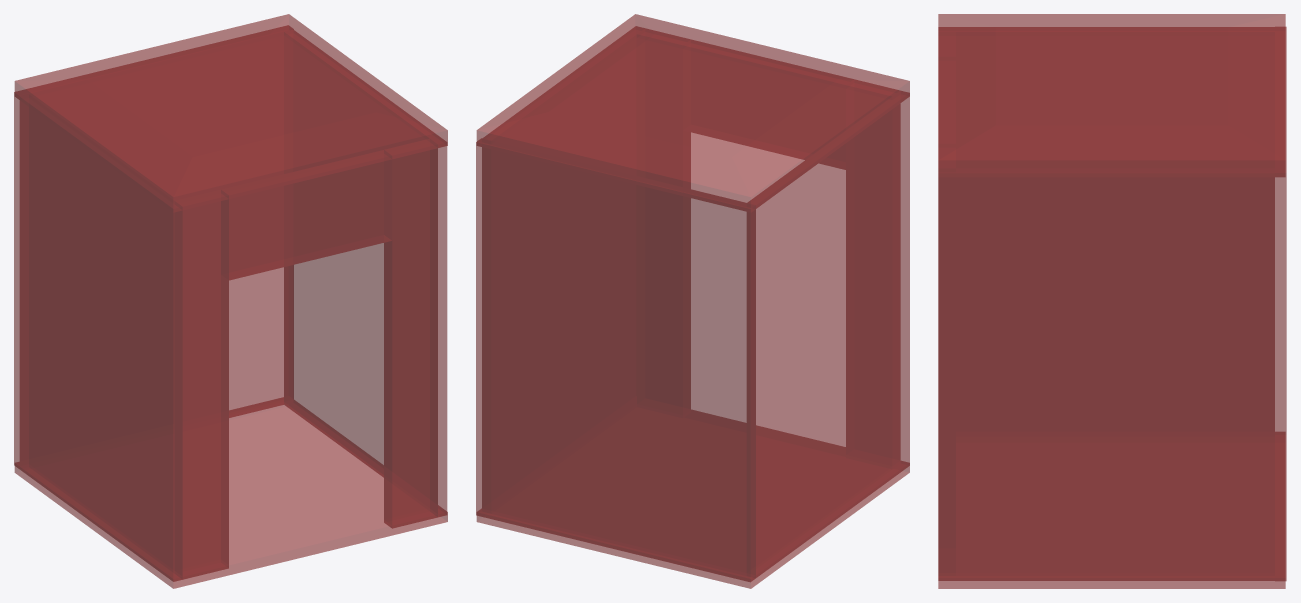
Rendered from SM_Bld_Wall_Elevator_Insert_01_Collision.fbx.
The picture shows the model from 3 angles, left to right: view 1: azimuth 30°, elevation 25°; view 2: azimuth 150°, elevation 25°; view 3: azimuth 270°, elevation 25°; orthographic projection. The views are drawn at different scales.
Visible parts, largest first — view 1: SM_Bld_Wall_Elevator_Insert_01_Collision; view 2: SM_Bld_Wall_Elevator_Insert_01_Collision; view 3: SM_Bld_Wall_Elevator_Insert_01_Collision.
Part boxes in pixels (bbox=[...]): SM_Bld_Wall_Elevator_Insert_01_Collision: bbox=[14, 14, 447, 588]; SM_Bld_Wall_Elevator_Insert_01_Collision: bbox=[476, 14, 909, 588]; SM_Bld_Wall_Elevator_Insert_01_Collision: bbox=[938, 14, 1286, 588].
Size of the model in its own units: 231 by 323 by 232.
